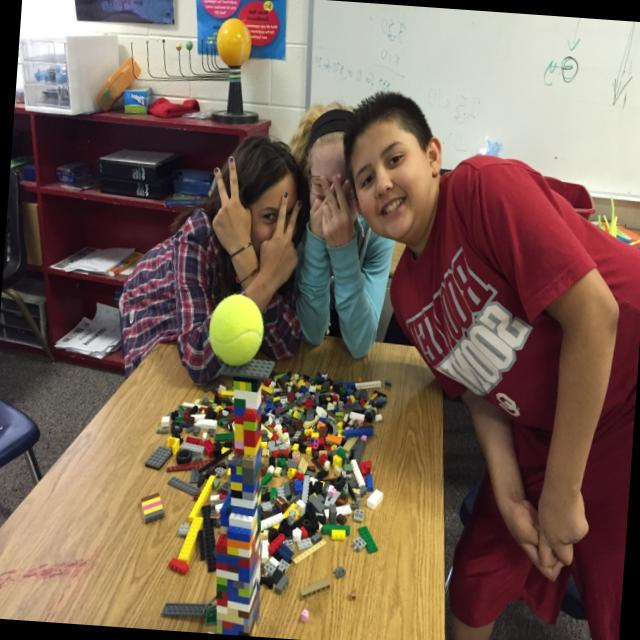Ball: (207, 292, 264, 366), (216, 18, 254, 71)
